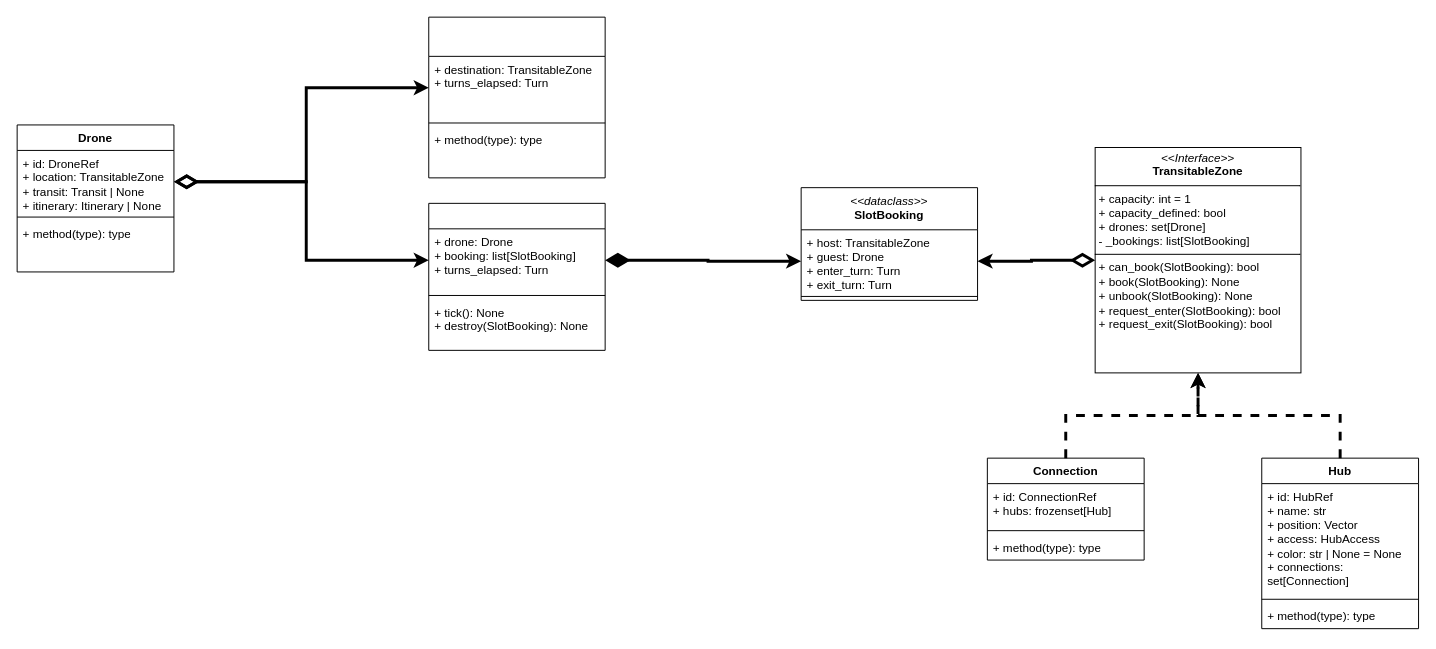
This 1436x649 diagram has some shape labels left out. Here are the shapes that lost their labels. From the top down, the box of each, then its label:
(428, 16, 605, 178): <<dataclass>> Transit
(428, 202, 605, 350): Itinerary
